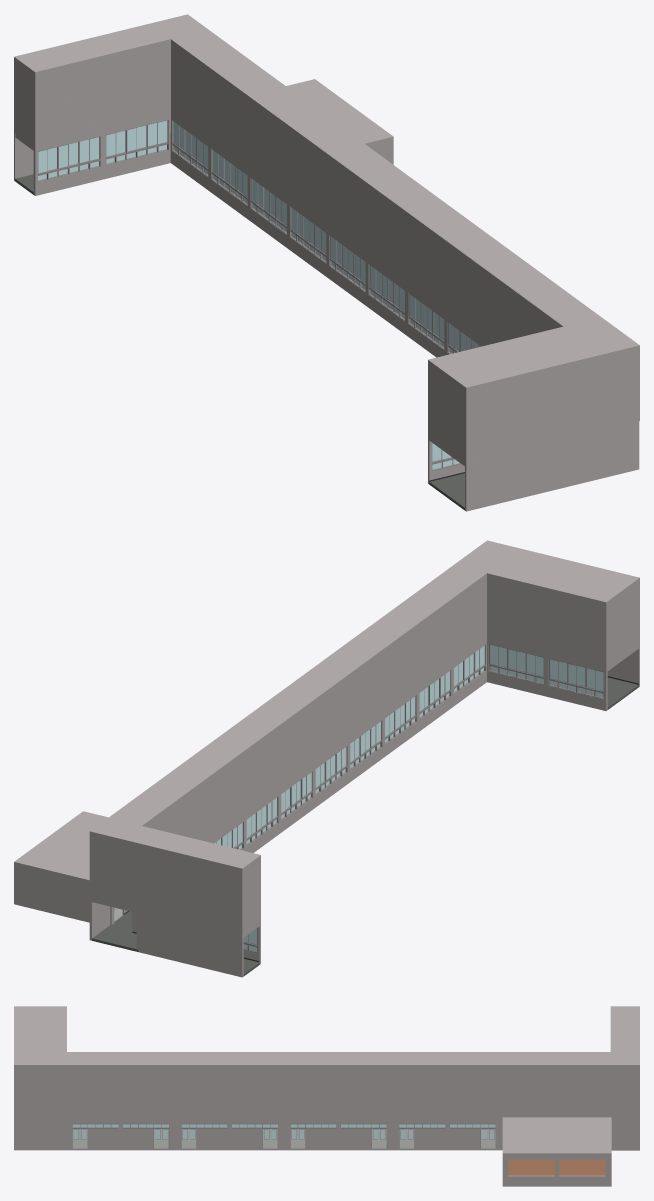
The model's file is anime-school-hallway.glb.
The picture shows the model from 3 angles, top to bottom: view 1: azimuth 30°, elevation 25°; view 2: azimuth 150°, elevation 25°; view 3: azimuth 270°, elevation 25°; orthographic projection. The views are drawn at different scales.
Parts seen in each view (by area): view 1: Object_7; view 2: Object_7; view 3: Object_7.
Boxes of the visible parts, x1,y1,x2,y2 form: Object_7: (14,14,639,511); Object_7: (14,540,639,977); Object_7: (14,1006,639,1186).
Bounding box in the file's own units: 21.32 × 9.01 × 59.54.
Materials: 1 (1 with a texture image).
